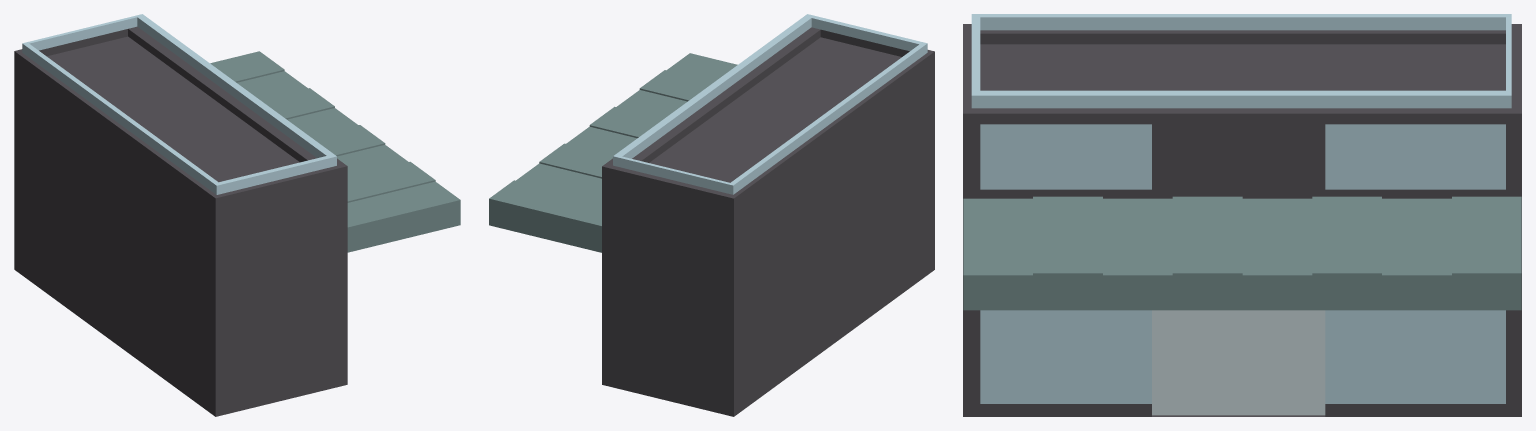
File: home.fbx
3 views of the same model, side by side, from view 1: azimuth 30°, elevation 25°; view 2: azimuth 150°, elevation 25°; view 3: azimuth 270°, elevation 25° (orthographic). The views are drawn at different scales.
Parts seen in each view (by area): view 1: Cube.001; view 2: Cube.001; view 3: Cube.001.
Part boxes in pixels (x1=…): Cube.001: x1=14, y1=14, x2=460, y2=416; Cube.001: x1=489, y1=14, x2=934, y2=416; Cube.001: x1=963, y1=14, x2=1521, y2=416.
Bounding box in the file's own units: 1045 × 928 × 1486.
